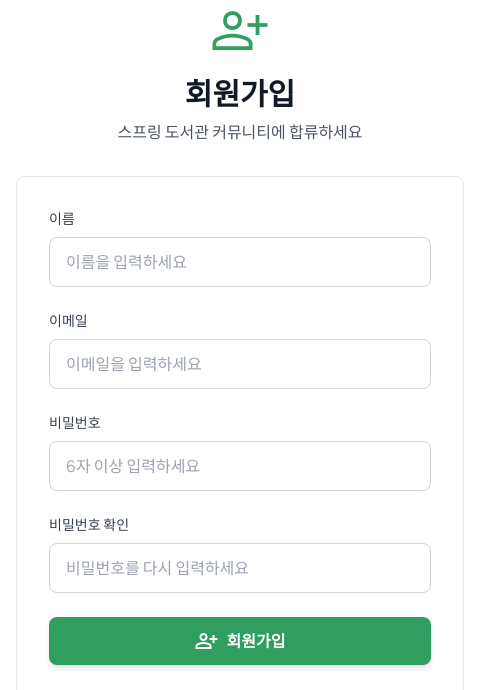
Scenario: Register › RG-02: 이메일 형식 오류 › "올바른 이메일 형식을 입력하세요" 에러가 노출된다
Step 1. Type "테스트 회원" into the field labelled "이름" → [240, 262], box left=49, top=237, right=431, bottom=287
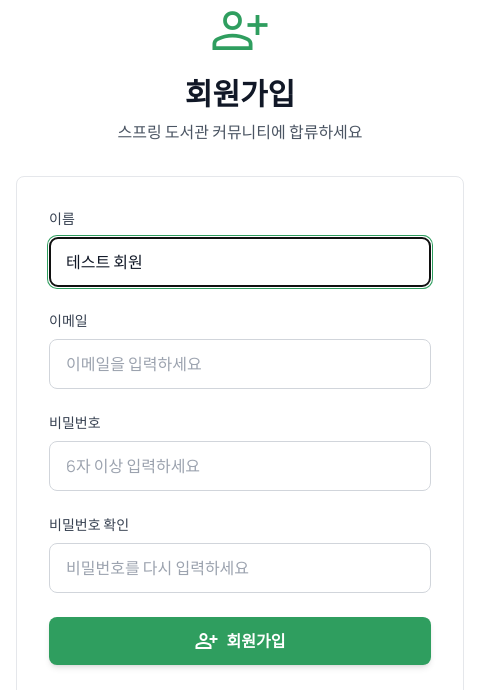
Step 2. Type "not-an-email" into the field labelled "이메일" → [240, 364], box left=49, top=339, right=431, bottom=389
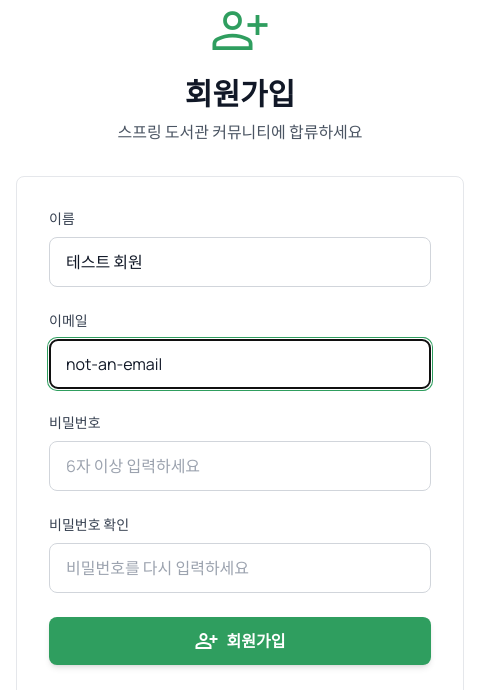
Step 3. Submit the form, box left=49, top=209, right=431, bottom=665
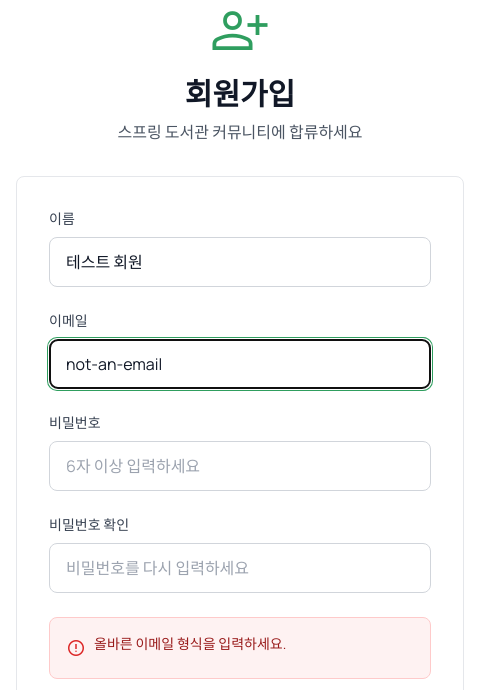
Now the text "올바른 이메일 형식을 입력하세요." is shown, box left=94, top=634, right=286, bottom=654
